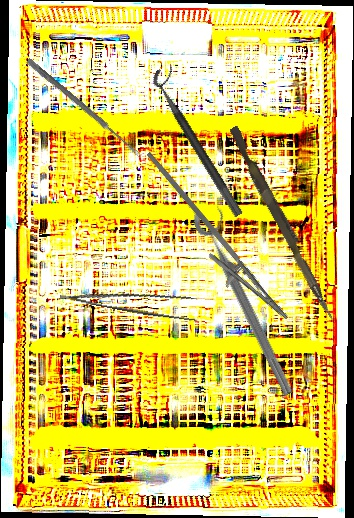Fixation Ring: (189, 201, 309, 399), (148, 62, 256, 219)
Needle Holder: (117, 151, 307, 332)
Pusher: (224, 125, 342, 322)
Surgical Spoon: (25, 57, 144, 160)
Tissue Forceps: (59, 272, 203, 326)
